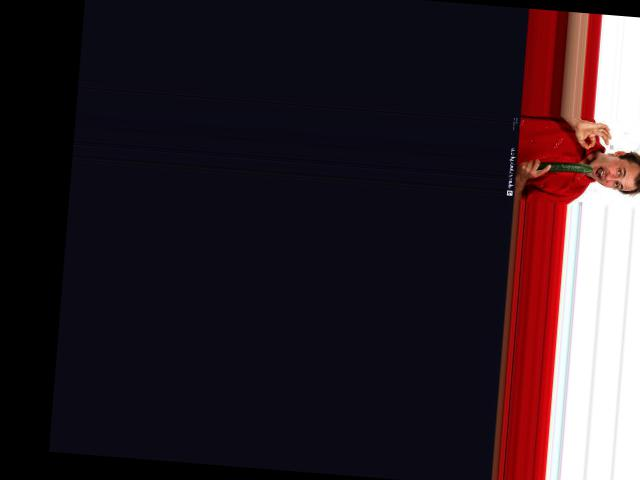cucumber: (538, 161, 593, 173)
